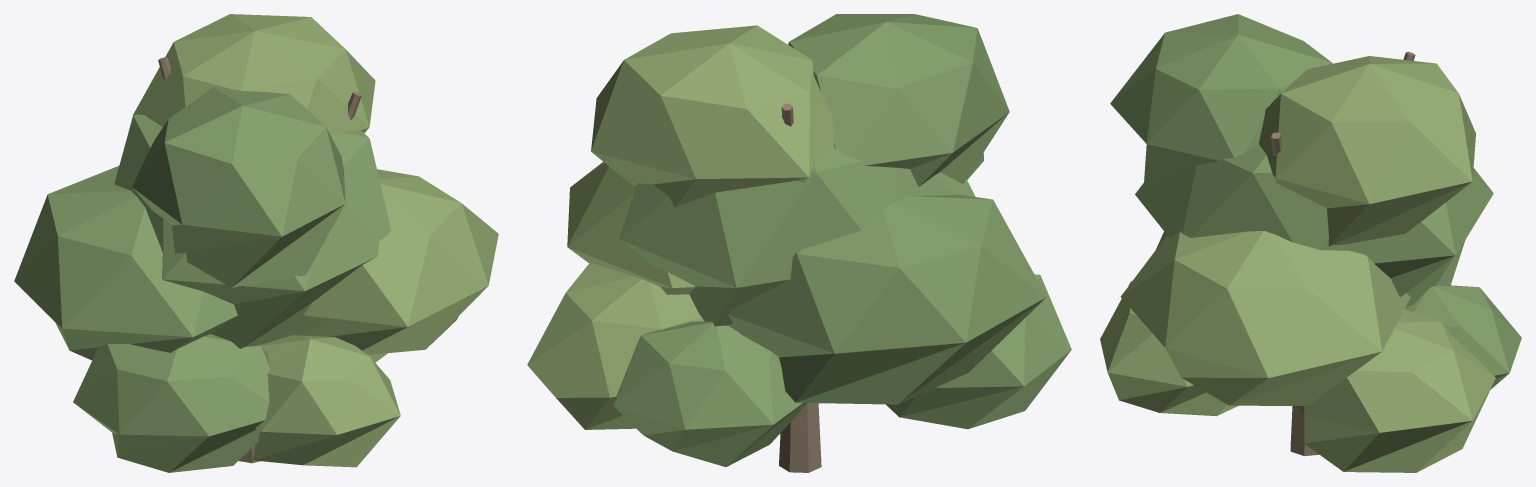
File: heckenstrauch.glb
3 views of the same model, side by side, from view 1: azimuth 30°, elevation 25°; view 2: azimuth 150°, elevation 25°; view 3: azimuth 270°, elevation 25° (orthographic). The views are drawn at different scales.
Visible parts, largest first — view 1: laub, laub_hell, tree; view 2: laub, laub_hell, tree; view 3: laub_hell, laub, tree.
Boxes of the visible parts, box(x1,y1,x2,y2) form: laub: box(14, 87, 391, 472); laub_hell: box(133, 14, 498, 467); tree: box(158, 57, 361, 463); laub: box(613, 14, 1071, 466); laub_hell: box(527, 25, 834, 429); tree: box(779, 103, 821, 472); laub_hell: box(1100, 56, 1495, 472); laub: box(1110, 14, 1521, 389); tree: box(1271, 51, 1415, 456).
Bounding box in the file's own units: 2.52 × 2.19 × 2.09.
